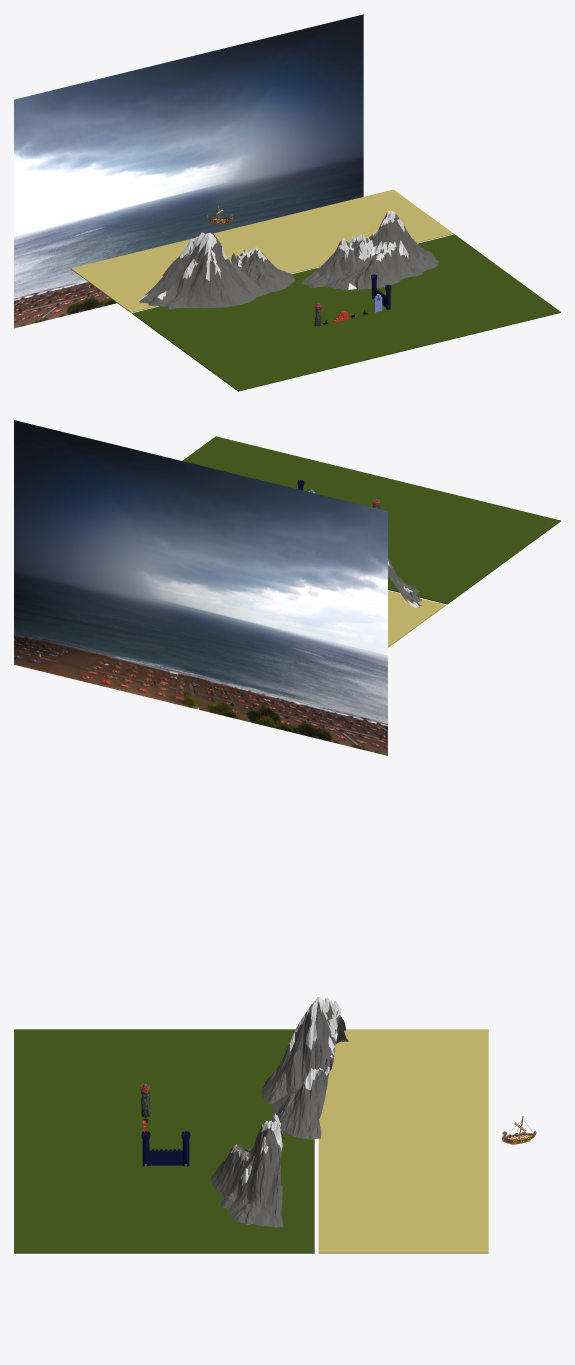
Rendered from level4.glb.
3 renders of one model, top to bottom at view 1: azimuth 30°, elevation 25°; view 2: azimuth 150°, elevation 25°; view 3: azimuth 270°, elevation 25°, orthographic. The views are drawn at different scales.
Parts seen in each view (by area): view 1: bg, Plane-ColVis, Plane-ColVis.001, Mountain_B_0.001, Mountain_B_0.002; view 2: bg, Plane-ColVis, Plane-ColVis.001, Mountain_B_0.001; view 3: Plane-ColVis, Plane-ColVis.001, Mountain_B_0.001, Mountain_B_0.002.
Part boxes in pixels (bbox=[...]): bg: bbox=[14, 14, 363, 328]; Plane-ColVis: bbox=[132, 234, 560, 391]; Plane-ColVis.001: bbox=[70, 189, 453, 312]; Mountain_B_0.001: bbox=[138, 232, 294, 309]; Mountain_B_0.002: bbox=[301, 210, 439, 289]; bg: bbox=[14, 420, 387, 755]; Plane-ColVis: bbox=[182, 436, 560, 604]; Plane-ColVis.001: bbox=[388, 590, 445, 647]; Mountain_B_0.001: bbox=[388, 558, 421, 607]; Plane-ColVis: bbox=[14, 1029, 314, 1253]; Plane-ColVis.001: bbox=[318, 1029, 488, 1253]; Mountain_B_0.001: bbox=[261, 996, 348, 1139]; Mountain_B_0.002: bbox=[210, 1113, 284, 1227].
Size of what is drawn, in the model's own units: 439 by 271 by 414.
22 materials, 2 textured.
